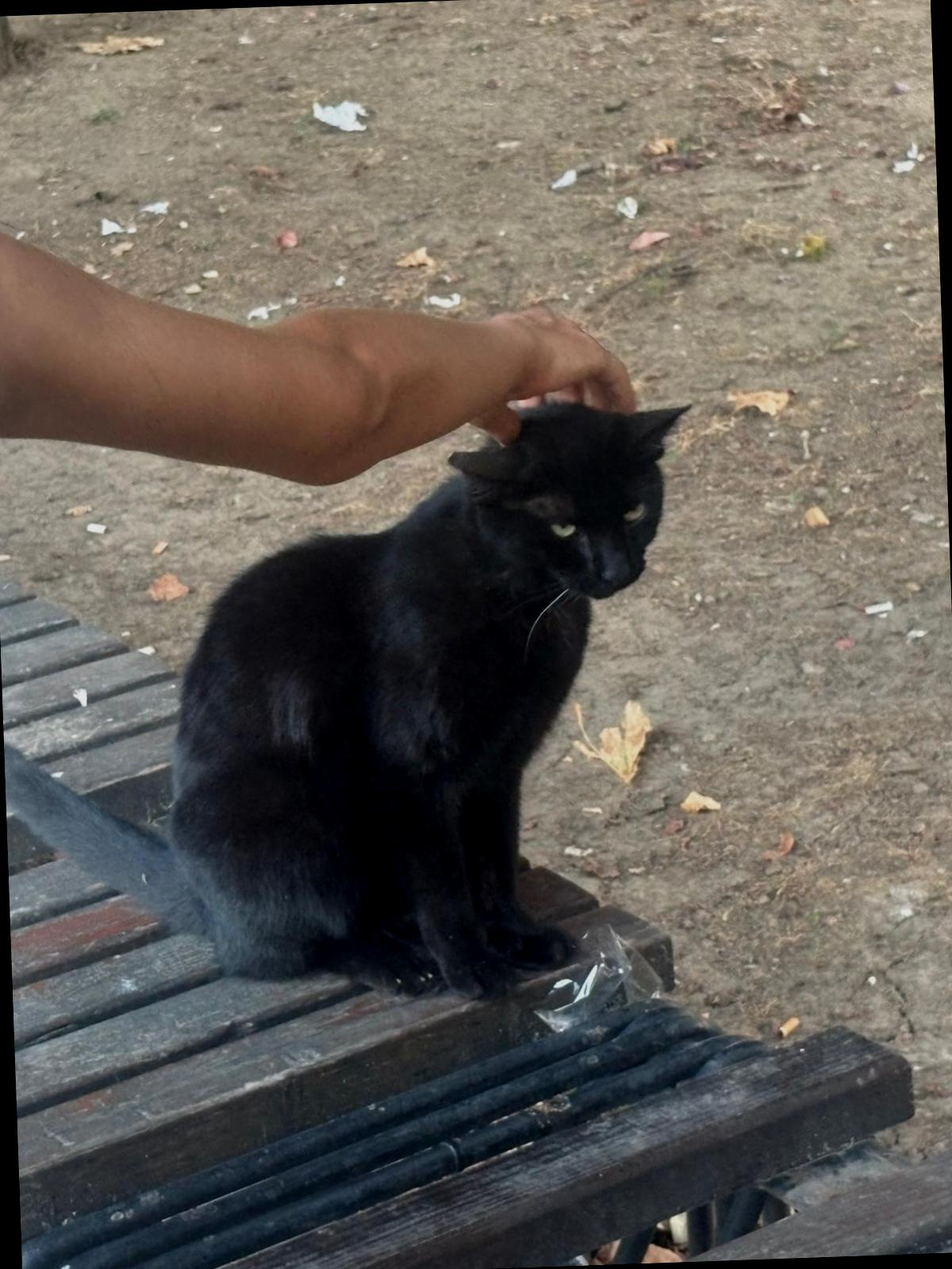macka: (0, 395, 717, 1022)
